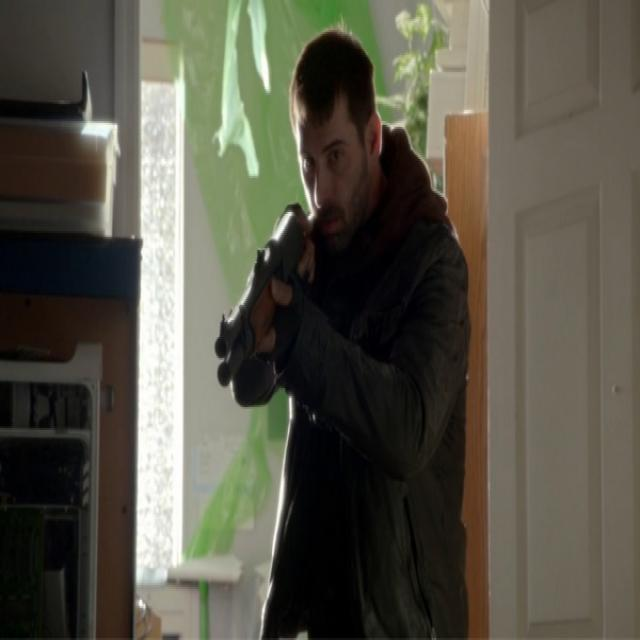rifle: (211, 195, 316, 399)
